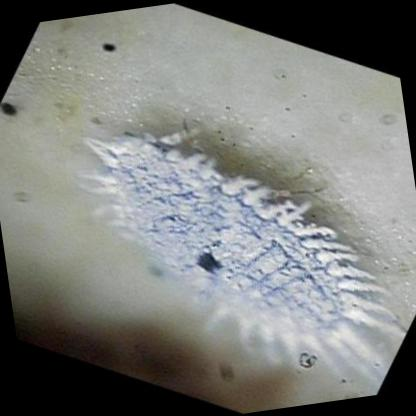mealy bug: (92, 136, 364, 348)
